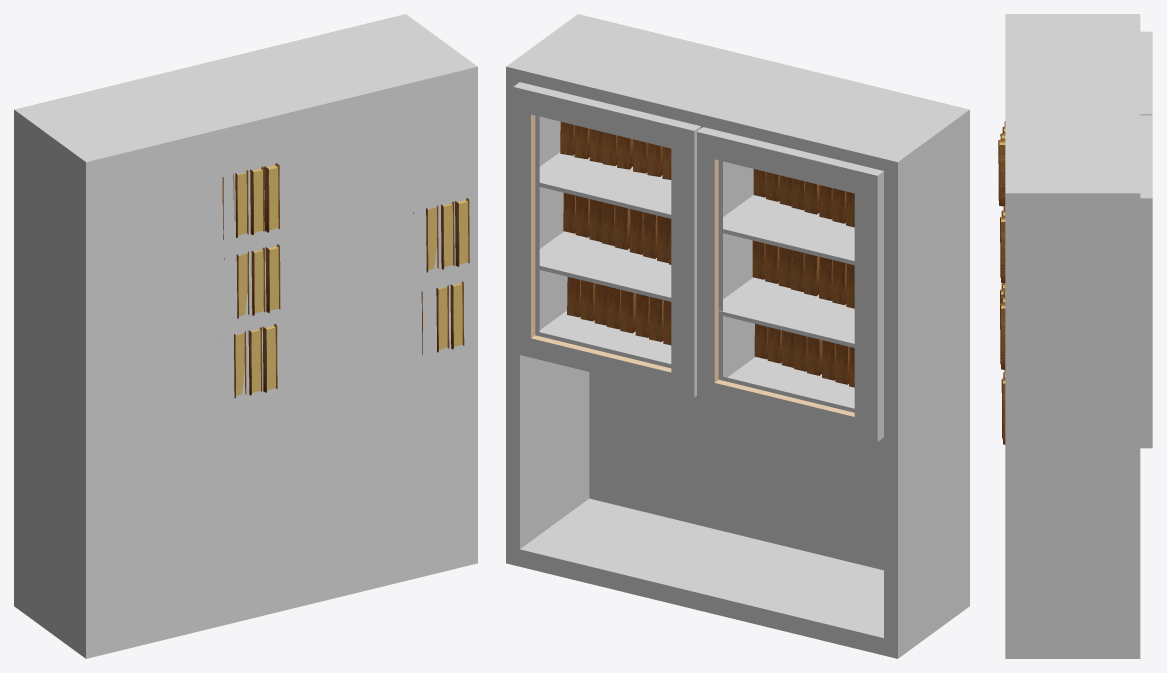
Rendered from medical cupbaord with books .fbx.
3 renders of one model, left to right at view 1: azimuth 30°, elevation 25°; view 2: azimuth 150°, elevation 25°; view 3: azimuth 270°, elevation 25°, orthographic. The views are drawn at different scales.
Parts seen in each view (by area): view 1: Cube, Cube.050, Cube.072, Cube.028, Cube.053, Cube.051, Cube.029, Cube.073, Cube.052, Cube.049, Cube.031, Cube.030 (+3 smaller); view 2: Cube, Cube.003, Cube.002, Plane.004, Plane.001, Plane.003, Plane, Cube.001, Plane.005, Plane.002; view 3: Cube, Cube.002, Cube.003, Cube.050, Cube.028, Cube.053, Cube.031.
Boxes of the visible parts, left/top/right/bottom form: Cube: left=14, top=14, right=477, bottom=658; Cube.050: left=264, top=163, right=279, bottom=232; Cube.072: left=262, top=323, right=277, bottom=392; Cube.028: left=455, top=198, right=469, bottom=266; Cube.053: left=265, top=244, right=280, bottom=312; Cube.051: left=250, top=166, right=264, bottom=234; Cube.029: left=441, top=201, right=454, bottom=269; Cube.073: left=248, top=327, right=262, bottom=395; Cube.052: left=251, top=247, right=265, bottom=315; Cube.049: left=235, top=170, right=248, bottom=237; Cube.031: left=450, top=281, right=464, bottom=349; Cube.030: left=436, top=285, right=449, bottom=352; Cube: left=506, top=14, right=969, bottom=658; Cube.003: left=697, top=127, right=883, bottom=441; Cube.002: left=513, top=82, right=700, bottom=397; Plane.004: left=718, top=277, right=854, bottom=347; Plane.001: left=539, top=231, right=671, bottom=301; Plane.003: left=723, top=195, right=854, bottom=265; Plane: left=539, top=152, right=671, bottom=218; Cube.001: left=723, top=161, right=754, bottom=377; Plane.005: left=727, top=357, right=854, bottom=408; Plane.002: left=539, top=311, right=671, bottom=363; Cube: left=1005, top=14, right=1140, bottom=658; Cube.002: left=1140, top=115, right=1152, bottom=448; Cube.003: left=1140, top=31, right=1152, bottom=115; Cube.050: left=998, top=139, right=1005, bottom=206; Cube.028: left=1000, top=303, right=1005, bottom=369; Cube.053: left=1000, top=216, right=1005, bottom=283; Cube.031: left=1001, top=378, right=1005, bottom=444.
Bounding box in the file's own units: 178 × 216 × 64.76.
